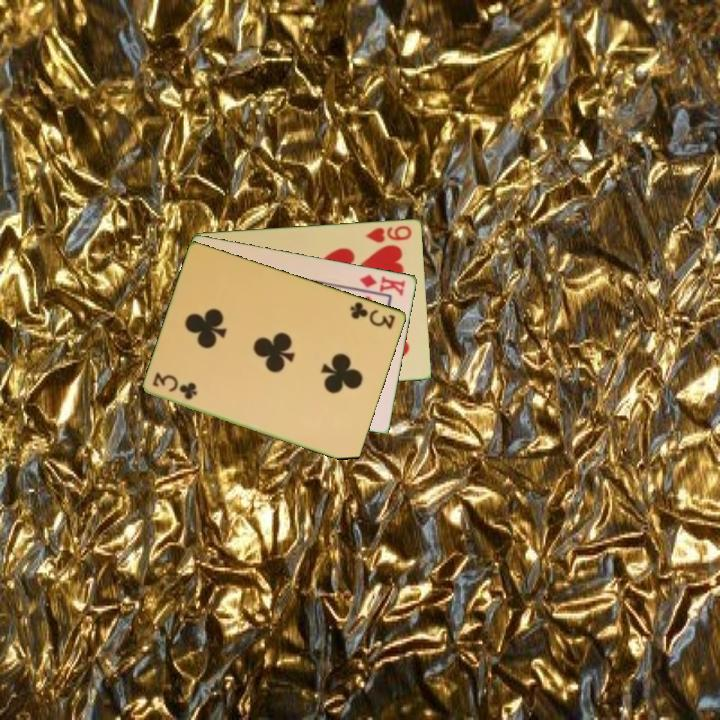3c: (347, 298, 398, 332), (149, 371, 201, 402)
9h: (362, 222, 415, 245)
Kd: (352, 271, 408, 298)
